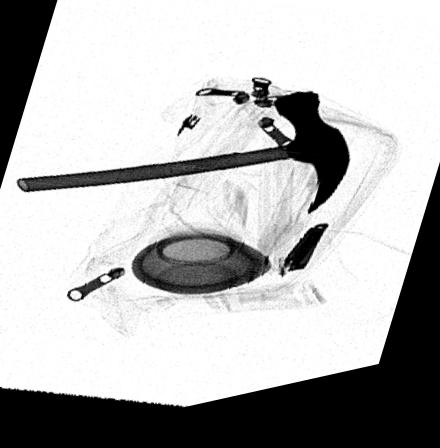Hammer: (16, 105, 351, 230)
